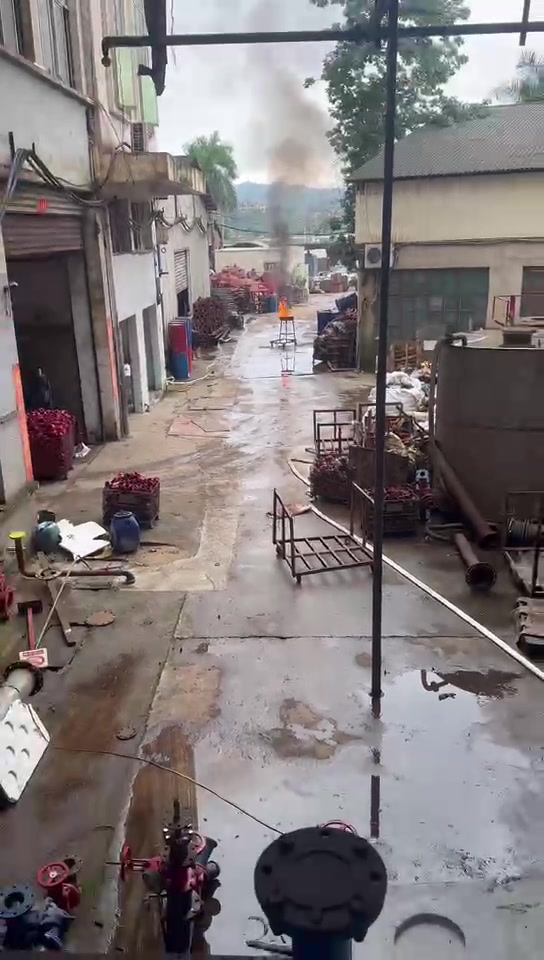fire: (276, 299, 293, 316)
